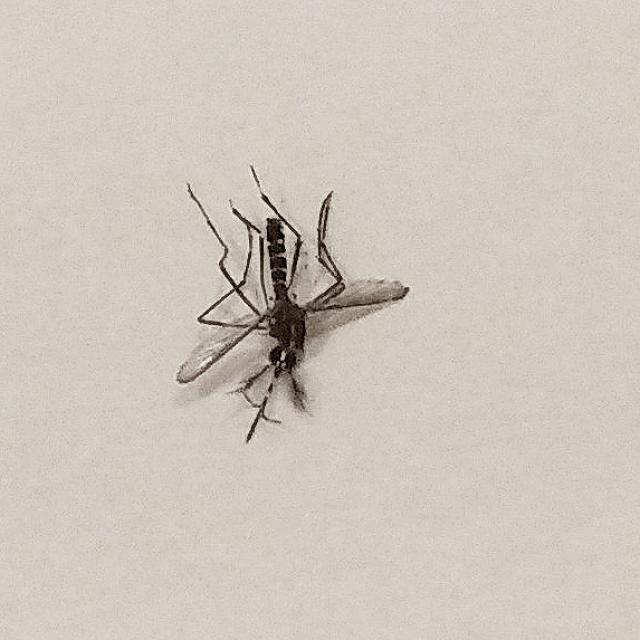albopictus: (162, 160, 400, 442)
